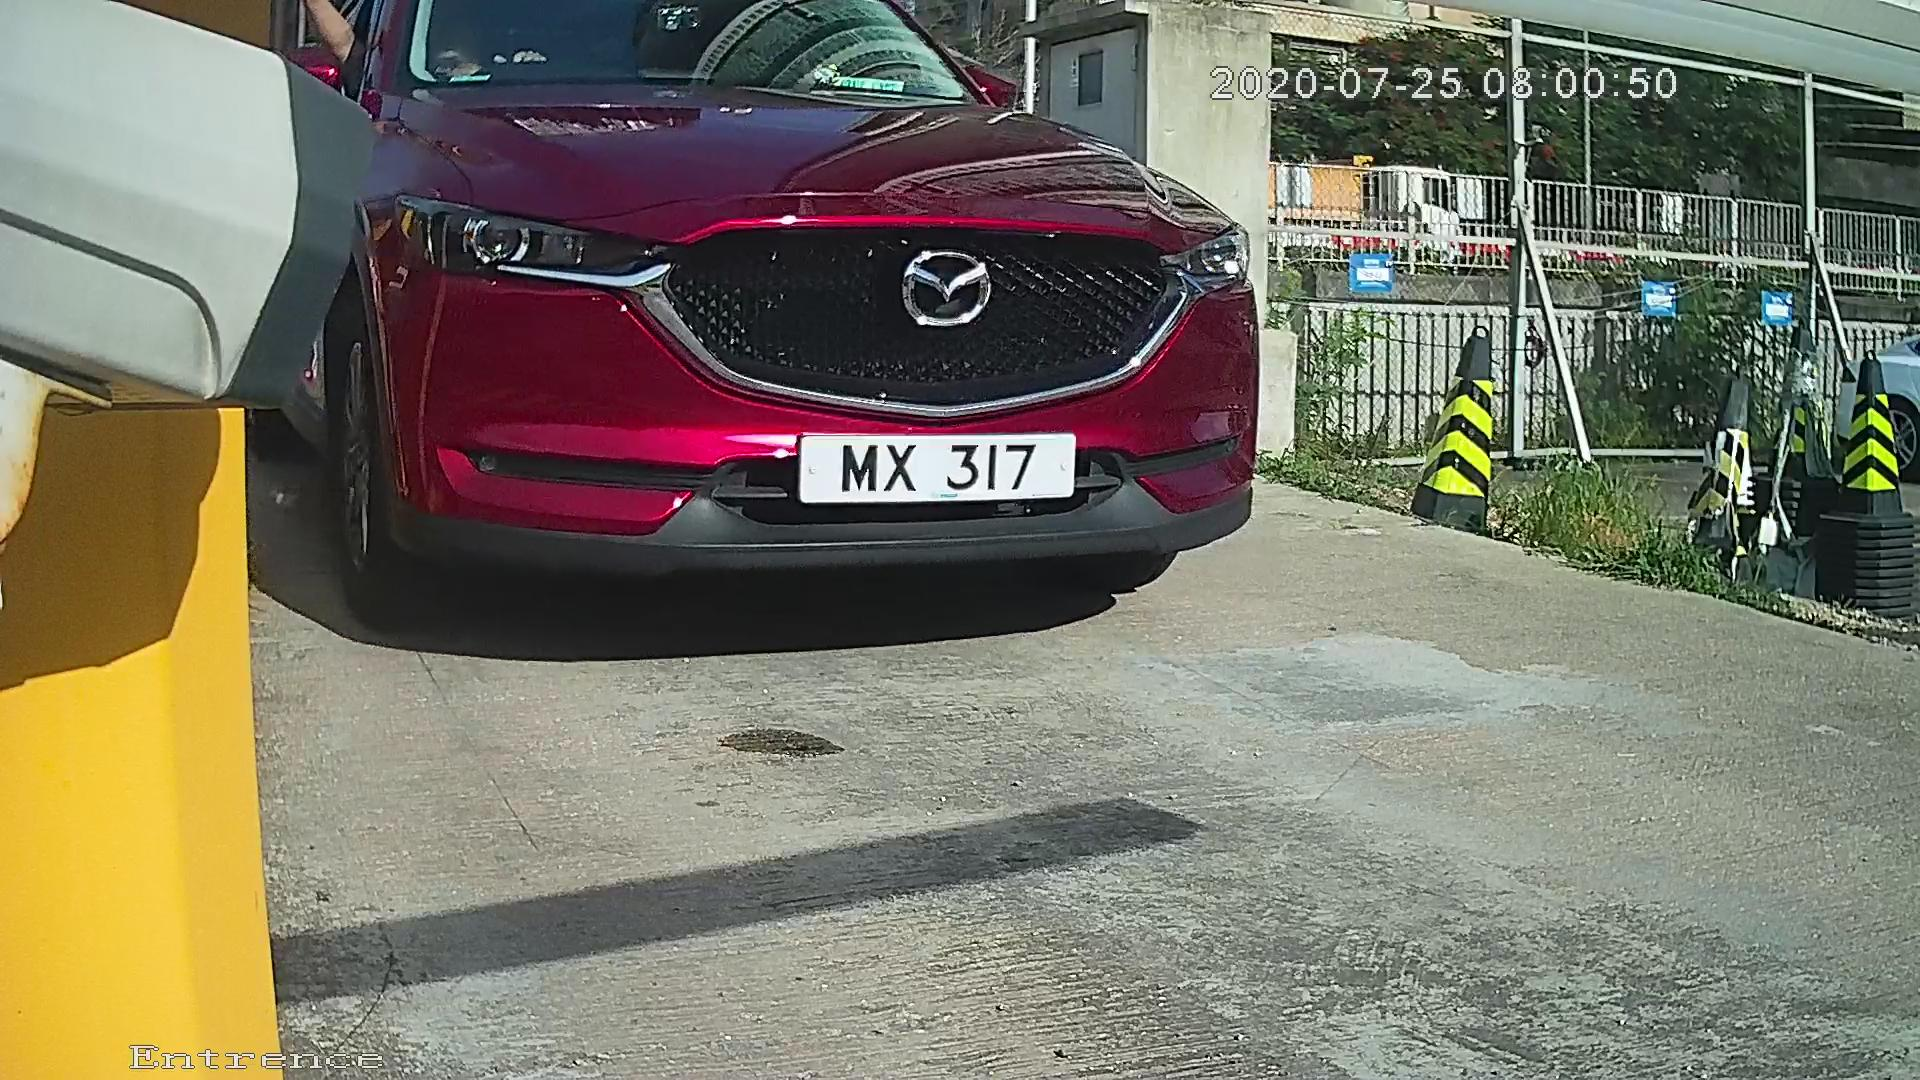Car: (35, 1, 1406, 700)
License Plate: (755, 415, 1106, 516)
